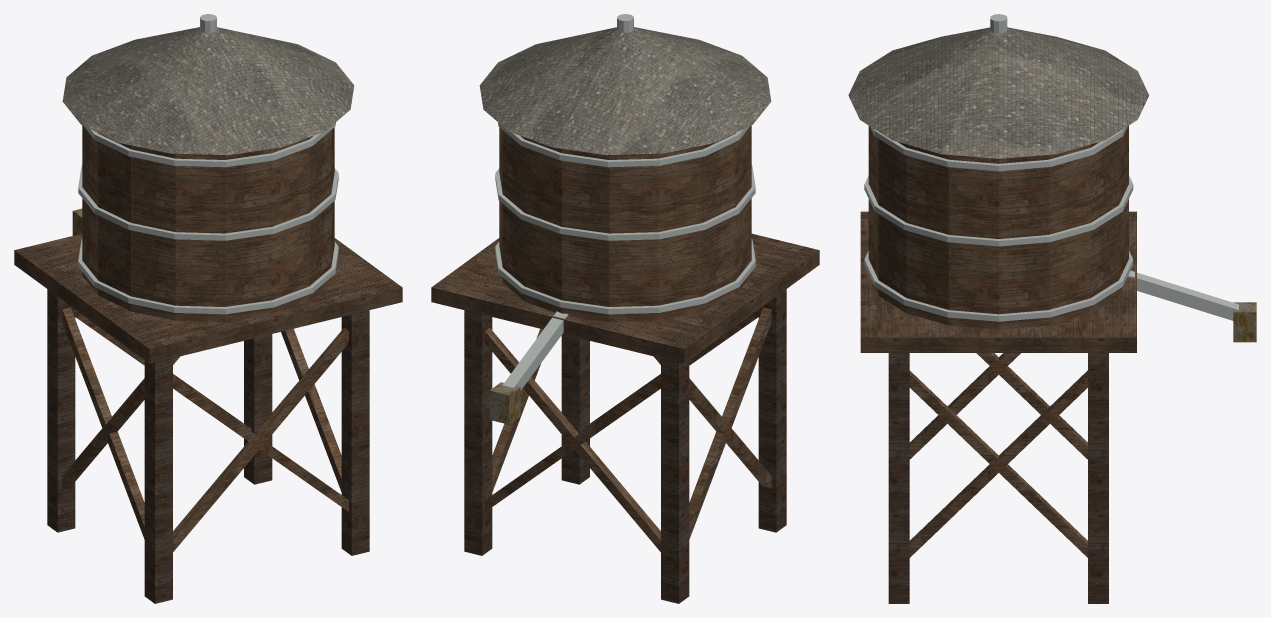
Rendered from water_tower.glb.
3 views of the same model, side by side, from view 1: azimuth 30°, elevation 25°; view 2: azimuth 150°, elevation 25°; view 3: azimuth 270°, elevation 25° (orthographic). The views are drawn at different scales.
Visible parts, largest first — view 1: Tank, TankRoof, Platform, Leg_-2.1_1.8, Leg_2.1_1.8, Leg_-2.1_-1.8, BraceFront1.8, Leg_2.1_-1.8, BraceSideR-2.1, SteelBand7.25, SteelBand5.75, BraceBack1.8 (+4 smaller); view 2: Tank, TankRoof, Platform, Leg_-2.1_-1.8, Leg_2.1_-1.8, Leg_-2.1_1.8, BraceFront-1.8, Leg_2.1_1.8, BraceSide-2.1, SteelBand7.25, SteelBand5.75, BraceBack-1.8 (+6 smaller); view 3: Tank, TankRoof, Platform, Leg_2.1_1.8, Leg_2.1_-1.8, BraceSide2.1, BraceSideR2.1, SteelBand5.75, SteelBand7.25, SteelBand8.75, RailSpout, BraceSide-2.1 (+2 smaller).
Boxes of the visible parts, bbox=[...] form: Tank: bbox=[82, 125, 334, 321]; TankRoof: bbox=[62, 27, 354, 155]; Platform: bbox=[14, 233, 402, 363]; Leg_-2.1_1.8: bbox=[144, 358, 172, 603]; Leg_2.1_1.8: bbox=[341, 310, 369, 555]; Leg_-2.1_-1.8: bbox=[47, 289, 75, 532]; BraceFront1.8: bbox=[173, 327, 348, 551]; Leg_2.1_-1.8: bbox=[244, 334, 272, 484]; BraceSideR-2.1: bbox=[62, 307, 144, 539]; SteelBand7.25: bbox=[78, 165, 338, 240]; SteelBand5.75: bbox=[78, 239, 338, 314]; BraceBack1.8: bbox=[173, 377, 348, 511]; Tank: bbox=[499, 125, 751, 321]; TankRoof: bbox=[479, 27, 771, 155]; Platform: bbox=[431, 233, 819, 363]; Leg_-2.1_-1.8: bbox=[661, 358, 689, 603]; Leg_2.1_-1.8: bbox=[464, 310, 492, 555]; Leg_-2.1_1.8: bbox=[758, 289, 786, 532]; BraceFront-1.8: bbox=[485, 327, 660, 551]; Leg_2.1_1.8: bbox=[561, 334, 589, 484]; BraceSide-2.1: bbox=[689, 307, 771, 539]; SteelBand7.25: bbox=[495, 165, 755, 240]; SteelBand5.75: bbox=[495, 239, 755, 314]; BraceBack-1.8: bbox=[485, 377, 660, 511]; Tank: bbox=[868, 125, 1128, 329]; TankRoof: bbox=[848, 27, 1149, 158]; Platform: bbox=[860, 211, 1136, 352]; Leg_2.1_1.8: bbox=[888, 353, 909, 603]; Leg_2.1_-1.8: bbox=[1088, 353, 1108, 603]; BraceSide2.1: bbox=[909, 370, 1087, 557]; BraceSideR2.1: bbox=[909, 370, 1087, 557]; SteelBand5.75: bbox=[864, 251, 1133, 321]; SteelBand7.25: bbox=[864, 175, 1133, 246]; SteelBand8.75: bbox=[870, 126, 1127, 171]; RailSpout: bbox=[1127, 270, 1238, 320]; BraceSide-2.1: bbox=[976, 353, 1087, 459].
Size of the model in its own units: 5.44 by 10.62 by 7.38.
Materials: 6 (5 with a texture image).
